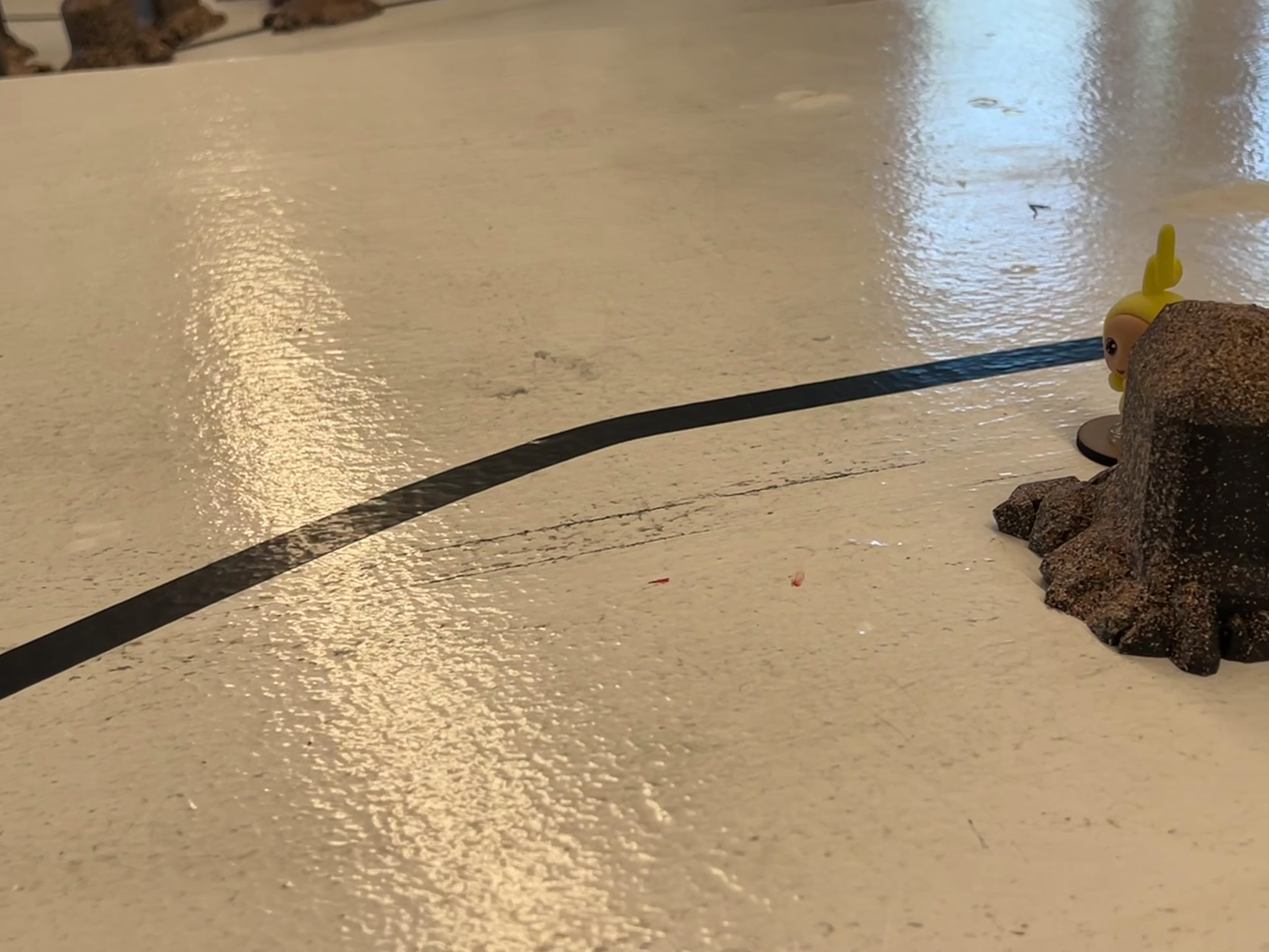teletubby: (1076, 225, 1184, 465)
